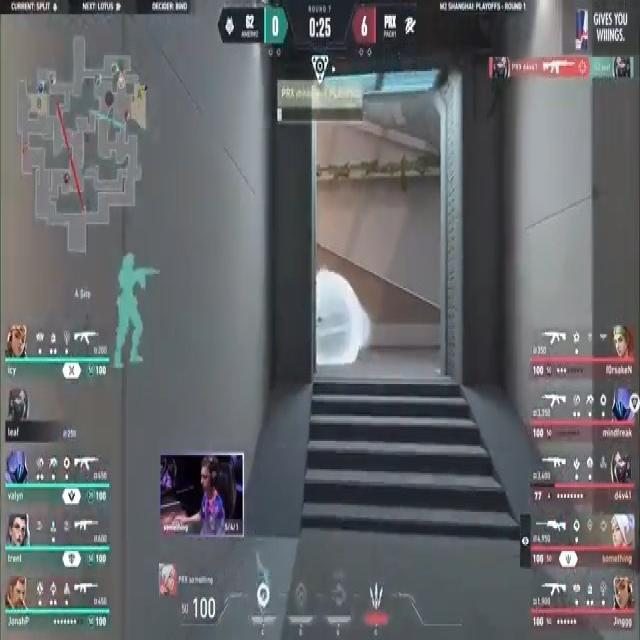ally behind wall: (116, 251, 159, 374)
